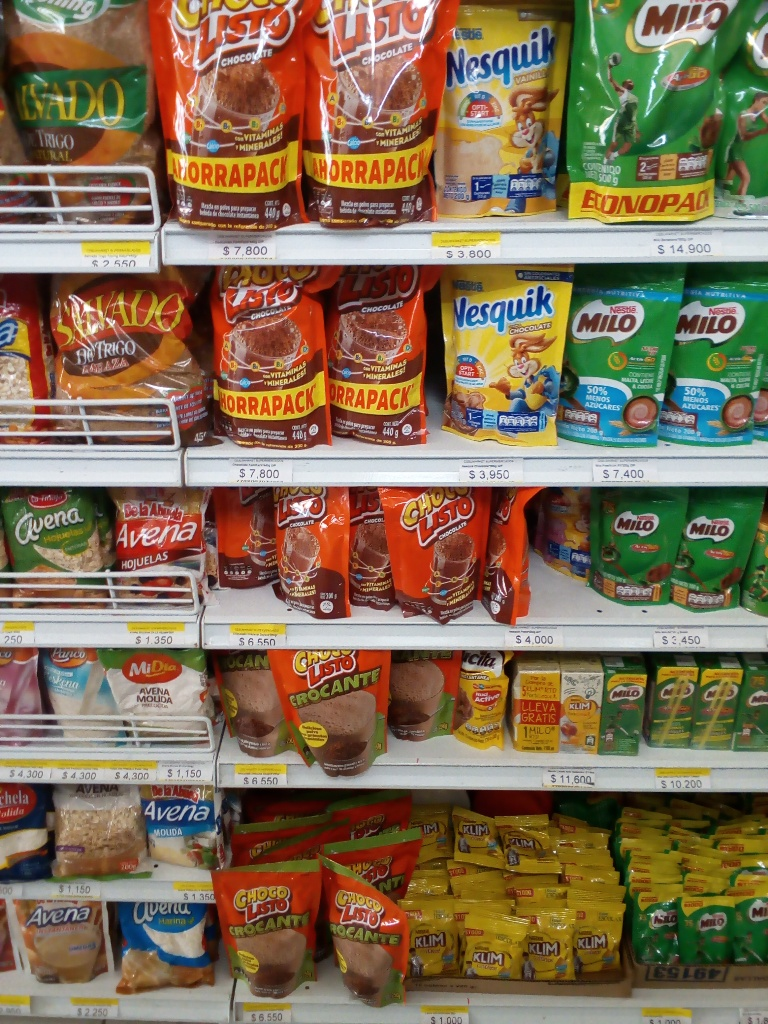COL0170102DYP25000: (209, 648, 291, 761)
COL0170103DYP36000: (208, 495, 285, 590)
COL0170103DYP44000: (145, 0, 318, 230)
COL0170203DYP10000: (591, 485, 689, 609)
COL0170203DYP50000: (572, 1, 737, 229)
COL0170205DYP20000: (559, 265, 676, 447)
COL0170205DYP50000: (726, 0, 768, 221)
COL0170303DYP20000: (438, 265, 576, 447)
COL0170306DYP20000: (443, 0, 569, 220)
